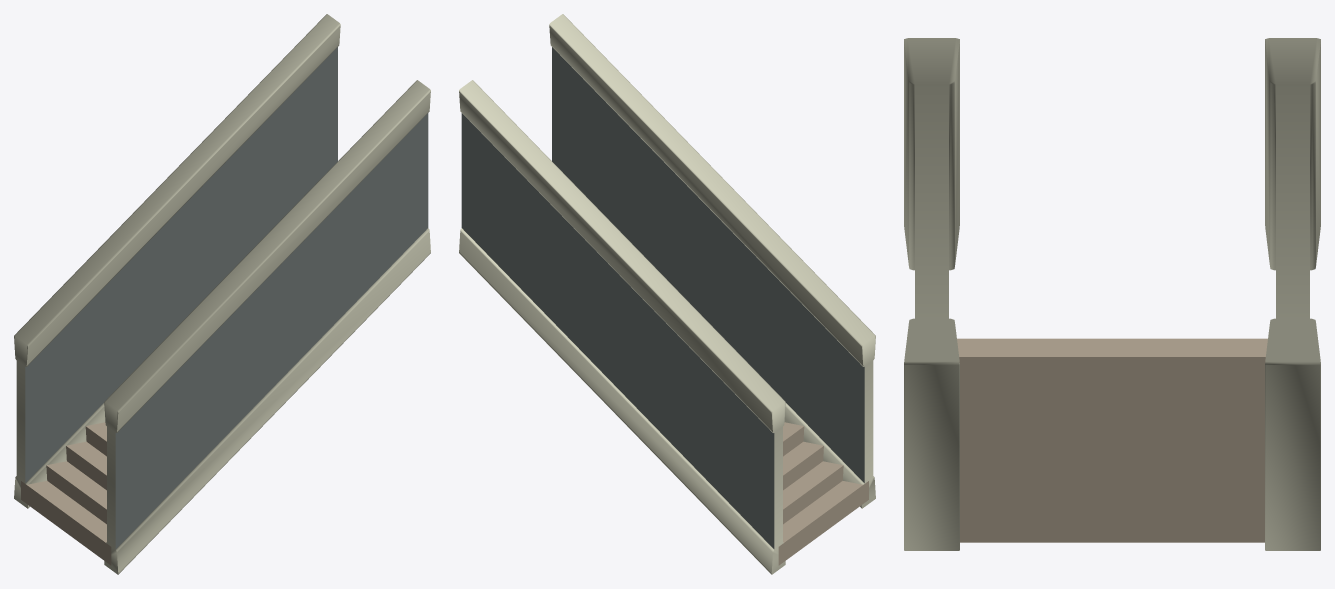
File: StairStraight6.fbx
3 views of the same model, side by side, from view 1: azimuth 30°, elevation 25°; view 2: azimuth 150°, elevation 25°; view 3: azimuth 270°, elevation 25° (orthographic). The views are drawn at different scales.
Parts seen in each view (by area): view 1: Wall.011; view 2: Wall.011; view 3: Wall.011.
Part boxes in pixels (x1=…): Wall.011: x1=14, y1=14, x2=430, y2=574; Wall.011: x1=459, y1=14, x2=875, y2=574; Wall.011: x1=904, y1=38, x2=1320, y2=550.
Size of the model in its own units: 800 by 1000 by 462.
